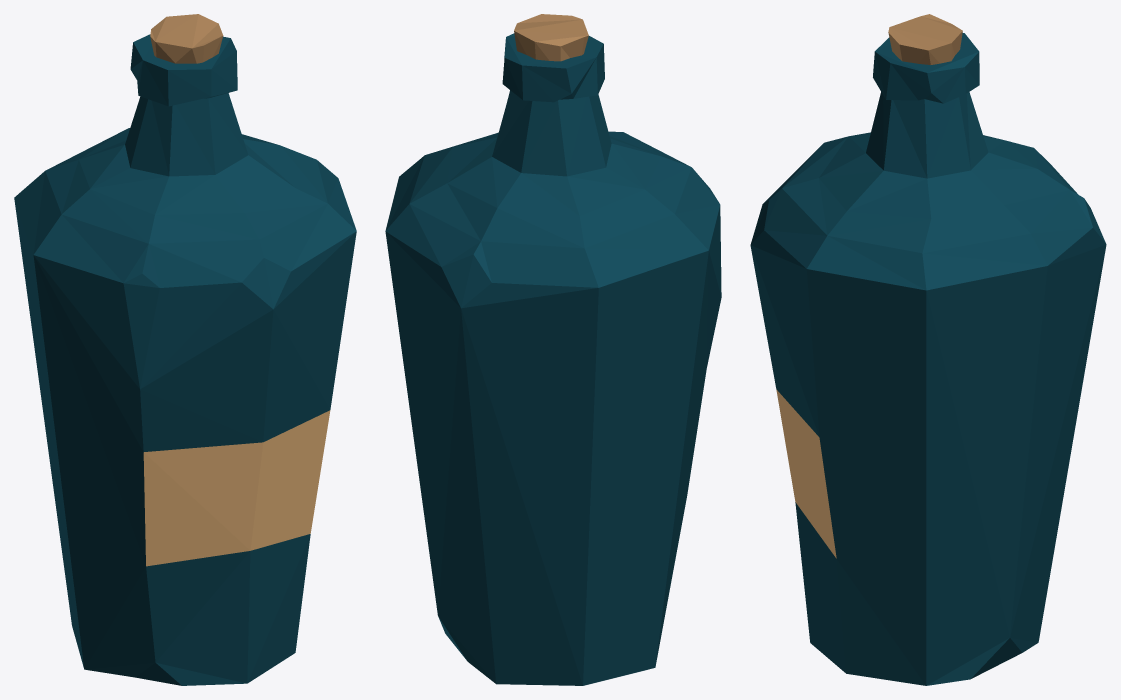
Rendered from AWS_Potion_Blue_019.fbx.
3 views of the same model, side by side, from view 1: azimuth 30°, elevation 25°; view 2: azimuth 150°, elevation 25°; view 3: azimuth 270°, elevation 25° (orthographic).
Parts seen in each view (by area): view 1: AWS_Potion_Blue_019; view 2: AWS_Potion_Blue_019; view 3: AWS_Potion_Blue_019.
Part boxes in pixels (x1,y1,x2,y2): AWS_Potion_Blue_019: [14, 14, 356, 685]; AWS_Potion_Blue_019: [385, 14, 721, 685]; AWS_Potion_Blue_019: [750, 14, 1106, 685].
Size of the model in its own units: 9.82 by 18.78 by 9.89.
